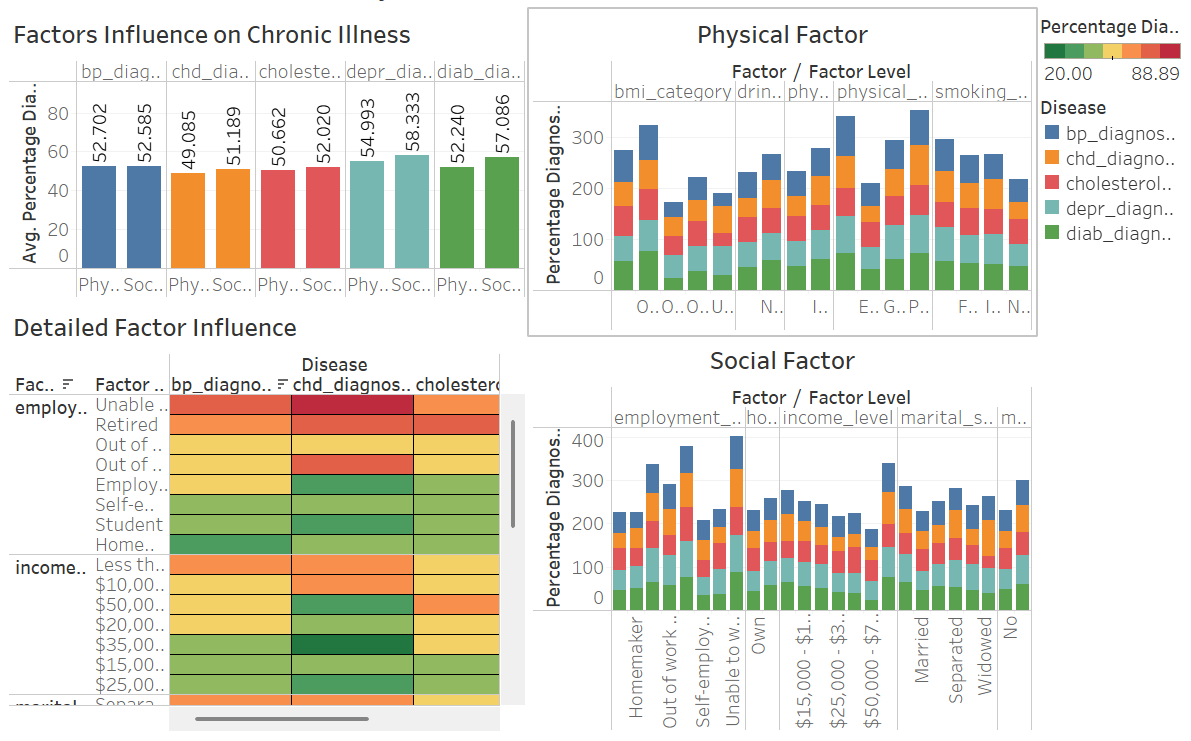

This screenshot's page, from the dashboard's own definition file:
{"tool":"tableau","page":{"name":"Influence of Physical and Social factor on Chronic Illness","canvas":[1200,800],"ordinal":2},"visuals":[{"type":"title","box":[8,8,1184,58]},{"type":"worksheet","title":"Factors Influence on Chronic Illness","mark":"Automatic","rows":["percentage_diagnosed (factor_analysis_all.csv)"],"cols":["disease (factor_analysis_all.csv)","Calculation_89790546119979014"],"box":[8,66,524.1,292.6]},{"type":"worksheet","title":"Physical Factor Influence on Chronic Illness - Detail Breakdown","mark":"Automatic","rows":["percentage_diagnosed"],"cols":["factor","factor_level"],"box":[532.1,66,506.9,326]},{"type":"legend","title":"Detailed factor Influence","param":"[federated.16ghi8b0fyk2cs199xdul1srynv9].[sum:percentage_diagnosed:qk]","box":[1039,66,153,81]},{"type":"legend","title":"Social Factor Influence on Chronic Illness - Detail Breakdown","param":"[federated.1h8mdd71l8t3mz1h3722n1a9vf7i].[none:disease:nk]","box":[1039,147,153,159]},{"type":"worksheet","title":"Detailed factor Influence","mark":"Automatic","rows":["factor","factor_level"],"cols":["disease"],"box":[8,358.6,524.1,433.4]},{"type":"worksheet","title":"Social Factor Influence on Chronic Illness - Detail Breakdown","mark":"Automatic","rows":["percentage_diagnosed"],"cols":["factor","factor_level"],"box":[532.1,392,506.9,400]}]}

Visuals, with their boxes on the page's 1200x800 design canvas (x1, y1, x2, y2). These are canvas units, not pixel positions in the 1191x741 screenshot, which may show the page scaled, cropped or inside an application window:
title: <region>8, 8, 1192, 66</region>
"Factors Influence on Chronic Illness" worksheet: <region>8, 66, 532, 359</region>
"Physical Factor Influence on Chronic Illness - Detail Breakdown" worksheet: <region>532, 66, 1039, 392</region>
"Detailed factor Influence" legend: <region>1039, 66, 1192, 147</region>
"Social Factor Influence on Chronic Illness - Detail Breakdown" legend: <region>1039, 147, 1192, 306</region>
"Detailed factor Influence" worksheet: <region>8, 359, 532, 792</region>
"Social Factor Influence on Chronic Illness - Detail Breakdown" worksheet: <region>532, 392, 1039, 792</region>
